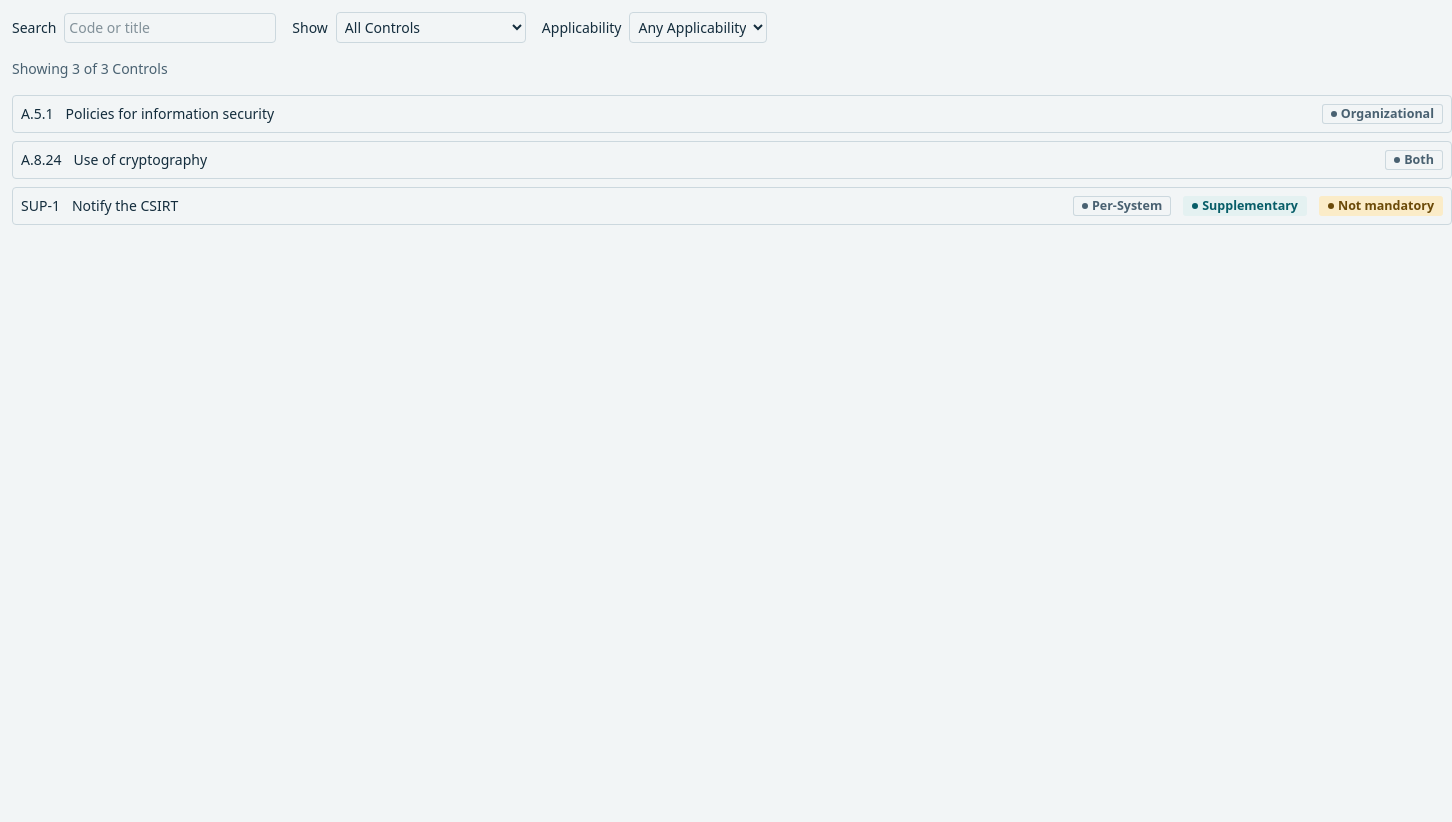
Test case: ControlLibrary (#169) › has the detail in an expandable section, closed until opened
Click the text "Use of cryptography" at {"x": 140, "y": 160}, box [74,150,207,169]
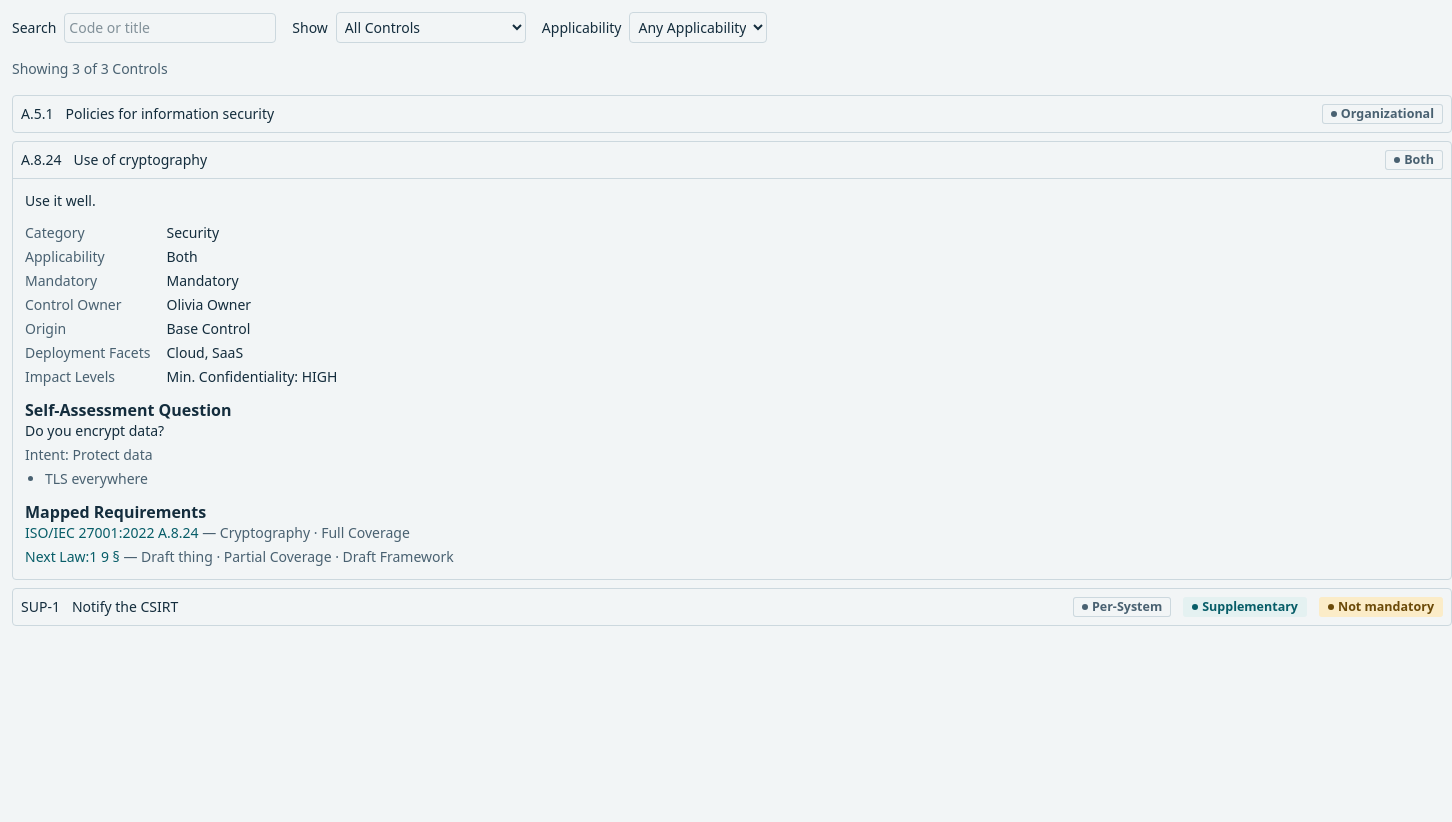
Expected: the text "Do you encrypt data?" is shown, [25,421,164,440]
Expected: the text "Intent: Protect data" is shown, [25,445,153,464]
Expected: the list item "TLS everywhere" is shown, [45,469,148,488]
